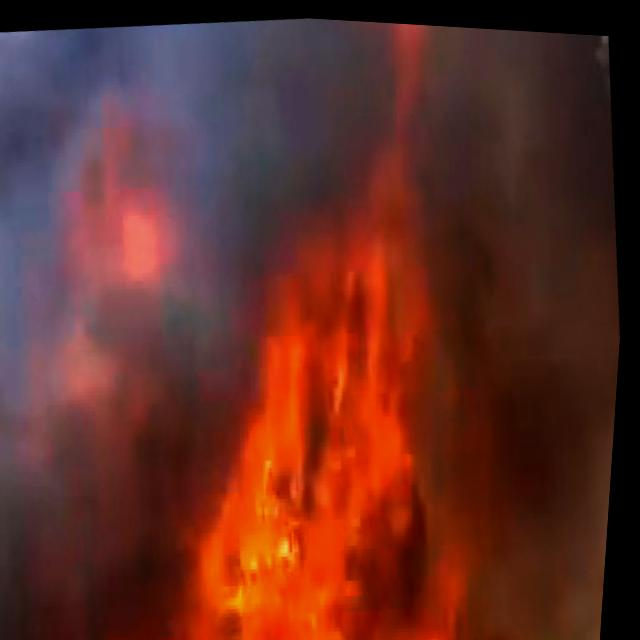fire: (141, 8, 568, 640), (0, 440, 617, 640)
